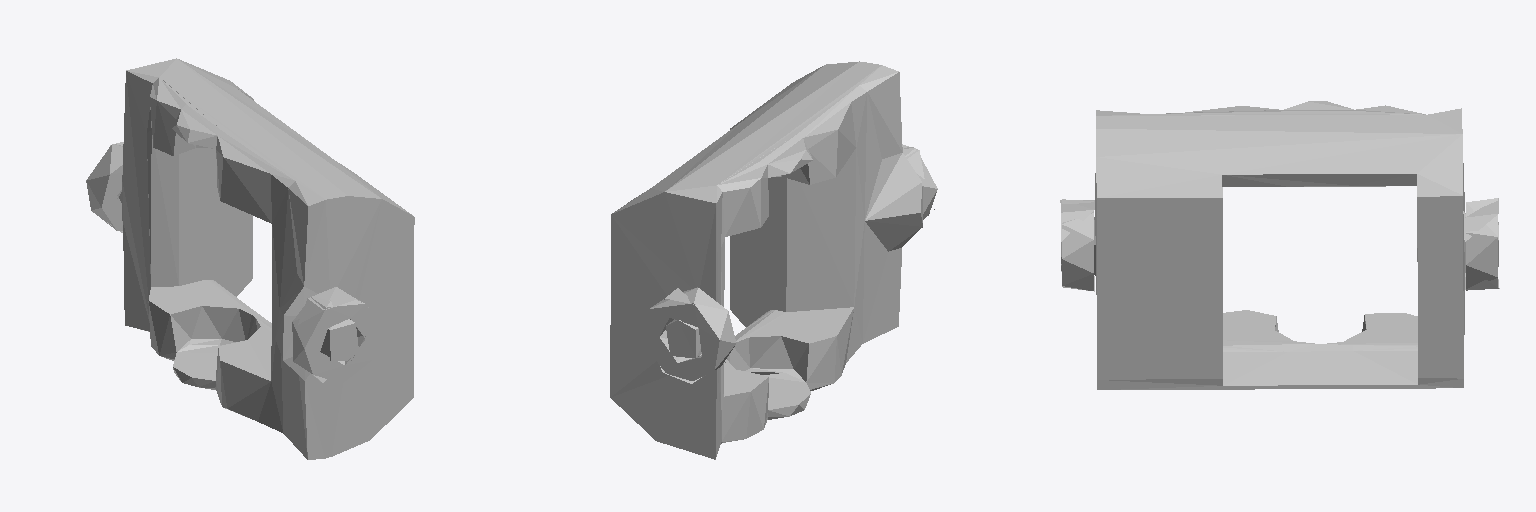
The model's file is right_visual_thumb_mp_mesh_mesh.obj.
3 views of the same model, side by side, from view 1: azimuth 30°, elevation 25°; view 2: azimuth 150°, elevation 25°; view 3: azimuth 270°, elevation 25° (orthographic).
Size of the model in its own units: 0.0135 by 0.0251 by 0.0383.